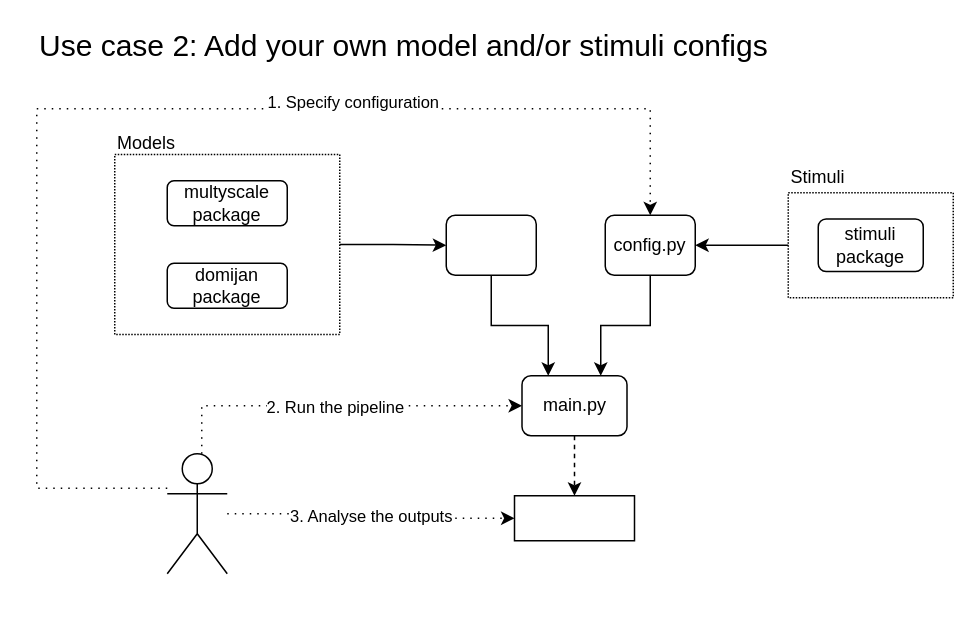
This 980x630 diagram has some shape labels left out. The shapes that lost their labels are listed below. From the top down, each one's centre as x and y in pixels, then its label:
At pixel 490 244: "adapters".
At pixel 196 513: "User".
At pixel 573 517: "output".
